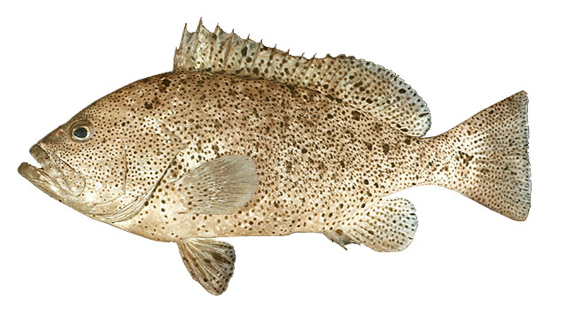fish: (18, 17, 532, 296)
